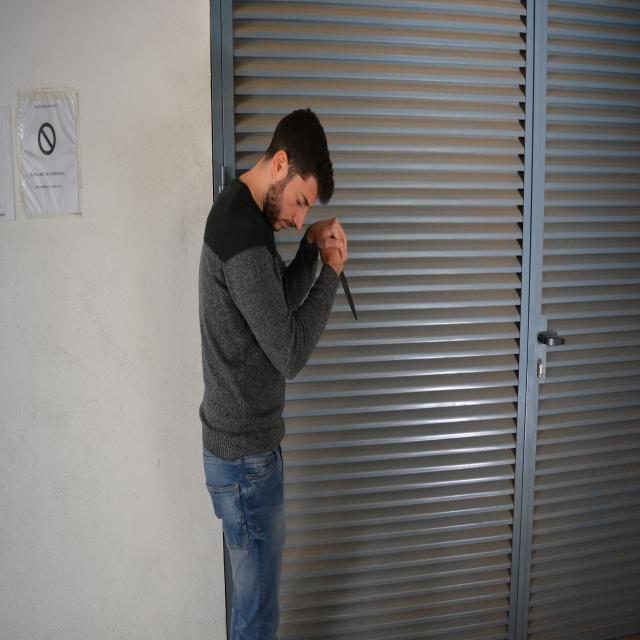knife: (339, 268, 364, 327)
